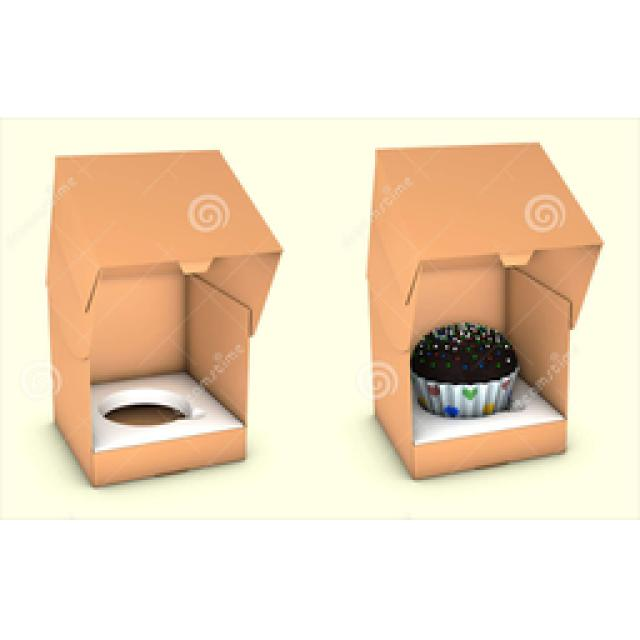cardboard: (48, 151, 285, 485), (368, 144, 603, 479)
